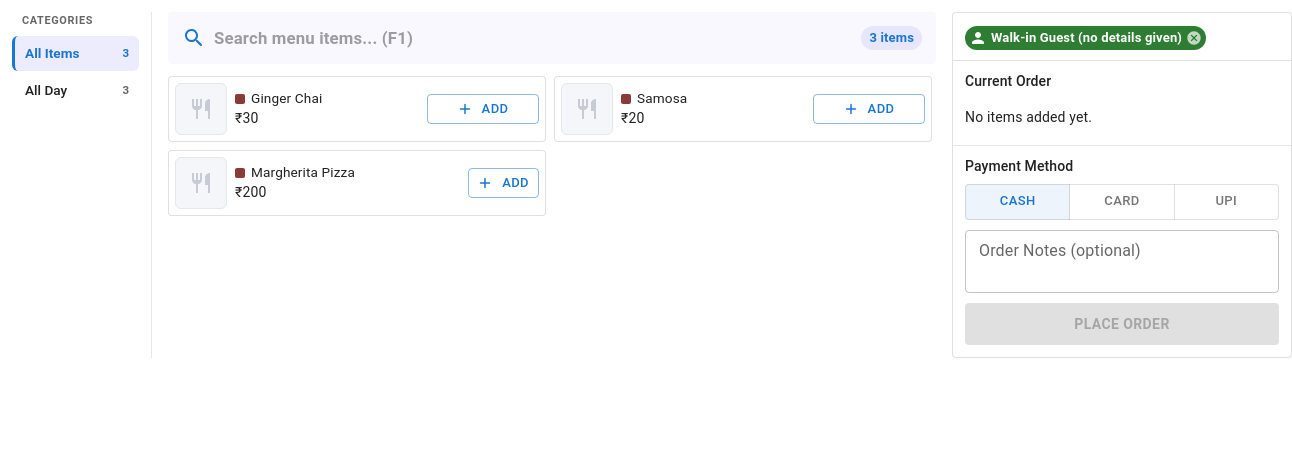
Test: PosOrderBuilder - building the cart › sums every cart line into the subtotal, not just the most recent one
The image size is (1292, 473).
Expected: the text "Ginger Chai" is shown, [251,90,322,107]
Click the button "Add" next to "Ginger Chai": x=483, y=109 [427,94,539,124]
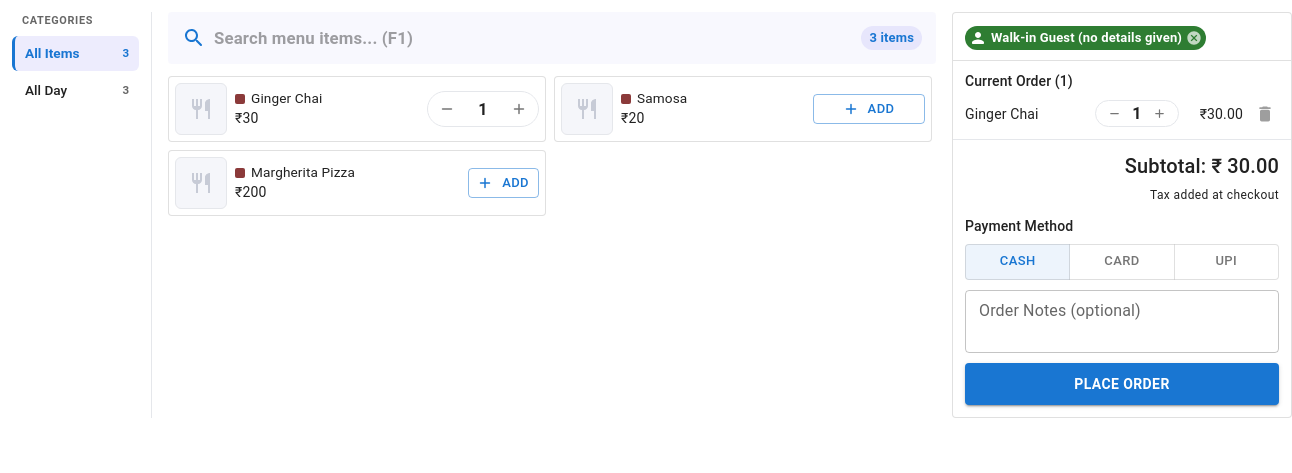
Click the button "Add" next to "Samosa": x=869, y=109 [813,94,925,124]
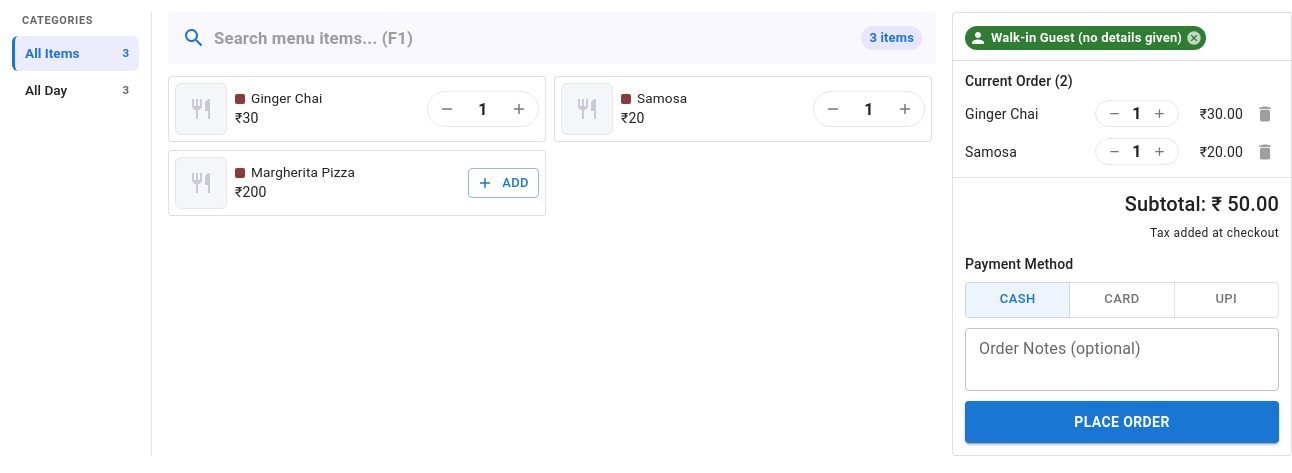
Now the heading "Subtotal: ₹ 50.00" is shown, box [1125,192,1279,216]
